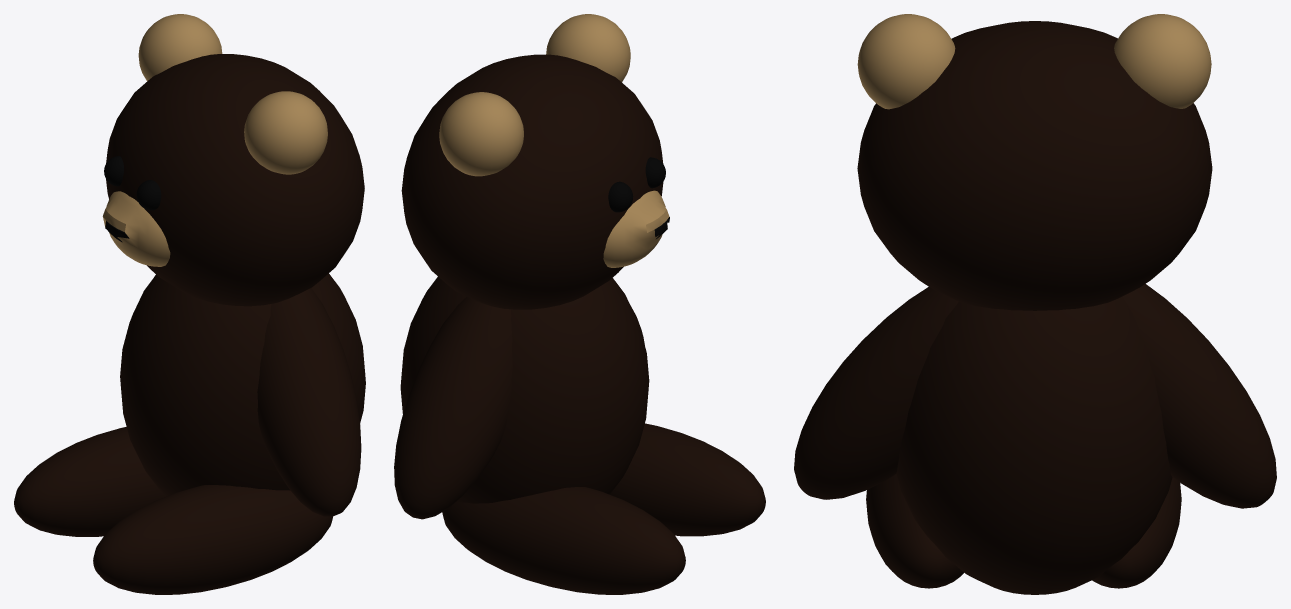
File: Bear.fbx
3 views of the same model, side by side, from view 1: azimuth 30°, elevation 25°; view 2: azimuth 150°, elevation 25°; view 3: azimuth 270°, elevation 25° (orthographic). The views are drawn at different scales.
Visible parts, largest first — view 1: Sphere, Sphere001, Sphere005, Sphere007, Sphere004, Sphere003, Sphere002, Sphere010, Sphere009, Sphere011; view 2: Sphere, Sphere001, Sphere004, Sphere006, Sphere005, Sphere002, Sphere003, Sphere010, Sphere011, Sphere009; view 3: Sphere, Sphere001, Sphere006, Sphere007, Sphere003, Sphere002, Sphere005, Sphere004.
Boxes of the visible parts, x1,y1,x2,y2 form: Sphere: (106,54,364,306); Sphere001: (120,273,365,496); Sphere005: (93,485,333,594); Sphere007: (257,288,361,516); Sphere004: (14,427,165,536); Sphere003: (244,91,327,174); Sphere002: (138,14,222,81); Sphere010: (102,191,170,266); Sphere009: (136,180,161,210); Sphere011: (104,156,123,186); Sphere: (401,54,663,309); Sphere001: (400,276,649,503); Sphere004: (442,487,685,594); Sphere006: (394,297,512,519); Sphere005: (610,423,765,536); Sphere002: (439,92,523,176); Sphere003: (546,14,630,82); Sphere010: (603,190,669,267); Sphere011: (608,181,633,212); Sphere009: (645,157,665,188); Sphere: (857,21,1212,310); Sphere001: (896,297,1172,594); Sphere006: (1122,284,1276,508); Sphere007: (794,287,958,499); Sphere003: (857,14,955,109); Sphere002: (1114,14,1211,108); Sphere005: (866,474,963,588); Sphere004: (1092,477,1181,588).
Size of the model in its own units: 279 by 429 by 327.
